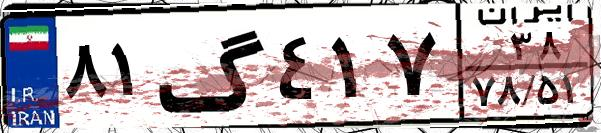1: (330, 28, 385, 110), (110, 28, 156, 98), (560, 70, 590, 125)
3: (508, 27, 537, 80)
4: (270, 28, 330, 110)
5: (535, 70, 560, 125)
7: (385, 28, 445, 110), (470, 70, 495, 125)
8: (57, 26, 110, 100), (537, 27, 568, 80), (495, 70, 520, 125)
گ: (156, 12, 270, 120)
